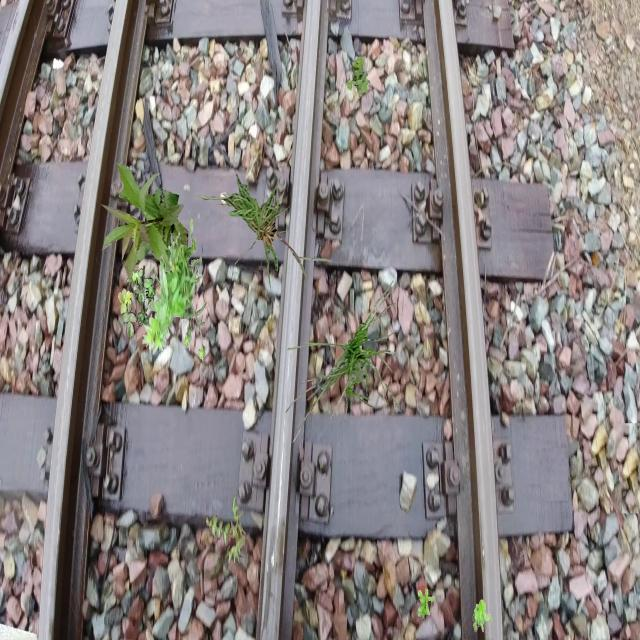Plant: (285, 280, 403, 443), (189, 173, 332, 292), (100, 163, 188, 293), (142, 219, 207, 362), (205, 494, 246, 566), (118, 265, 156, 338), (347, 56, 371, 97), (472, 599, 492, 632), (418, 588, 436, 620)
